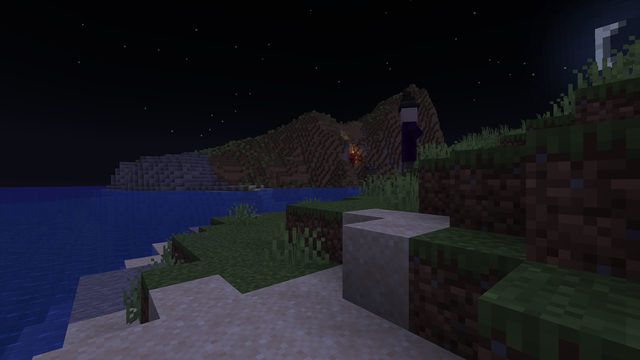sorcieres: (395, 103, 422, 168)
